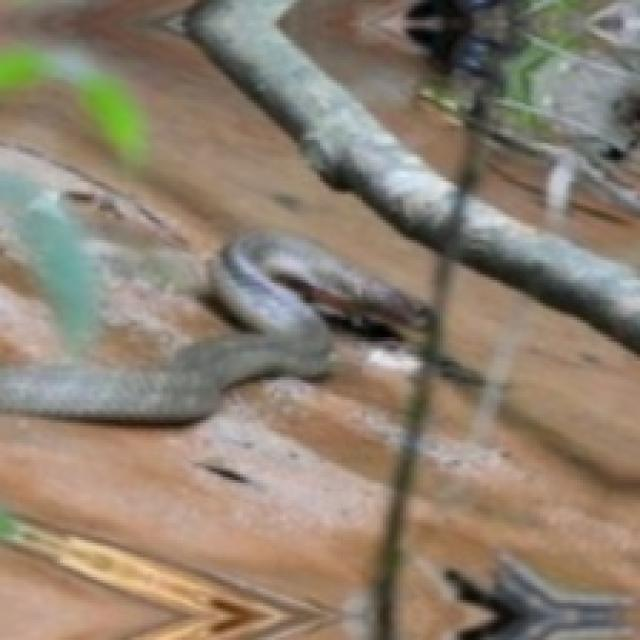king cobra: (0, 146, 426, 420)
